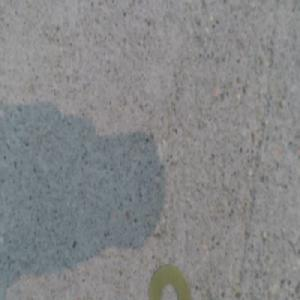Washer: (149, 264, 189, 299)
